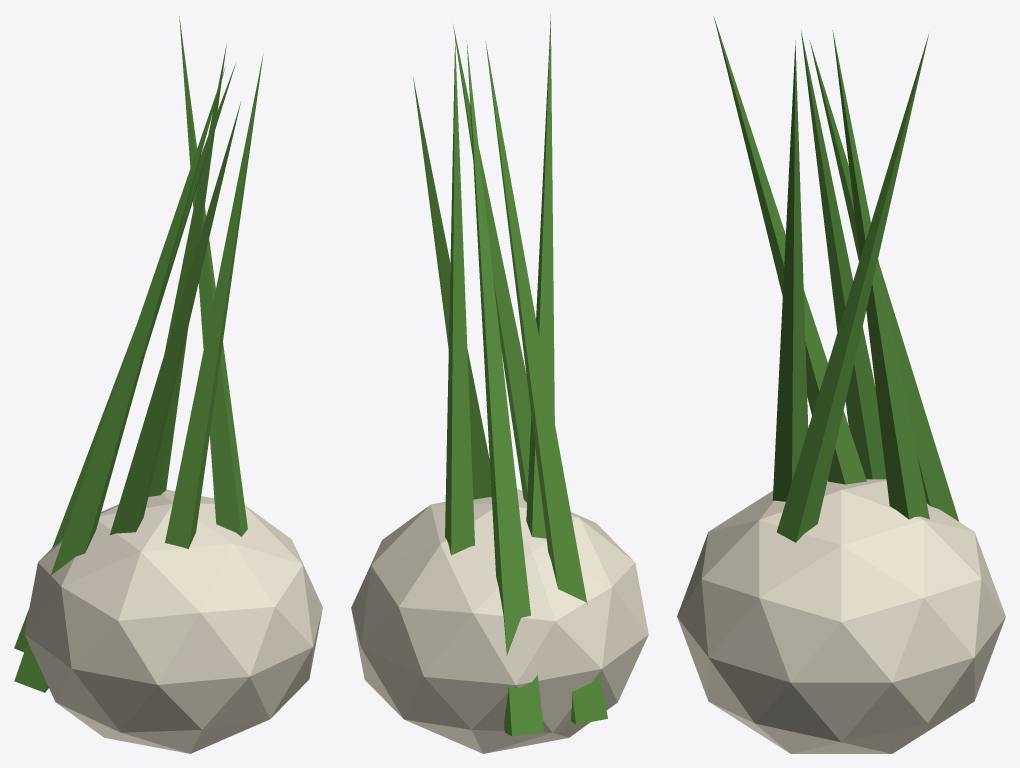
File: ekin_sarimsak.glb
3 views of the same model, side by side, from view 1: azimuth 30°, elevation 25°; view 2: azimuth 150°, elevation 25°; view 3: azimuth 270°, elevation 25° (orthographic). The views are drawn at different scales.
Visible parts, largest first — view 1: Filiz; view 2: Filiz; view 3: Filiz.
Boxes of the visible parts, box(x1,y1,x2,y2) form: Filiz: box(14, 16, 322, 753); Filiz: box(351, 14, 648, 753); Filiz: box(677, 16, 1005, 753).
Bounding box in the file's own units: 0.0511 × 0.1293 × 0.052.
